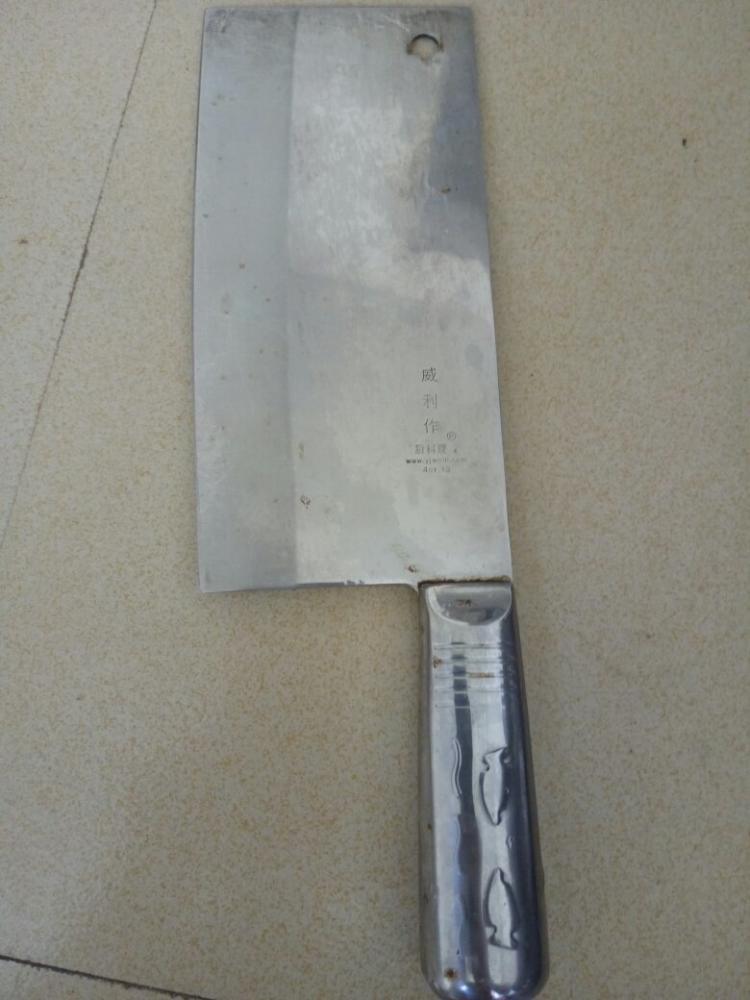knief: (172, 16, 624, 965)
